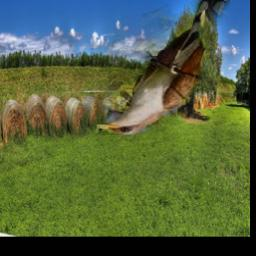Cuckoo: (97, 0, 230, 135)
